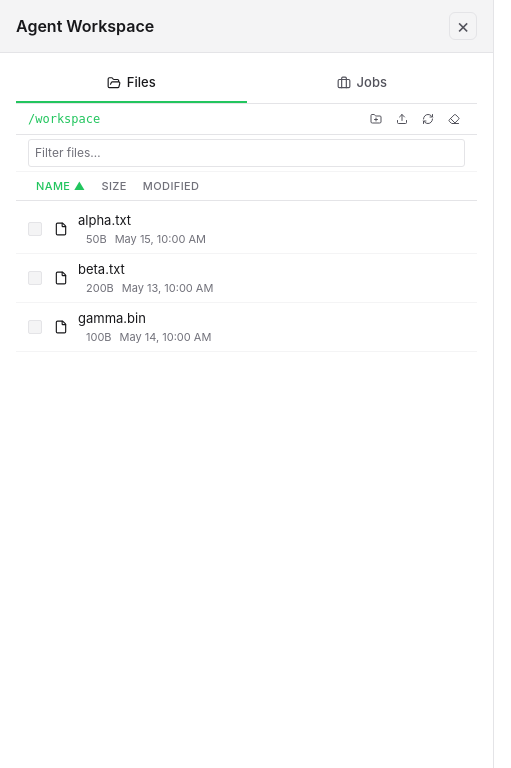
Test case: FileSystemDrawer Stage D: selection persistence › bulk delete includes filtered-out selected entries
Check: the text "alpha.txt" is shown, box x1=78 y1=212 x2=131 y2=228
Click the checkbox named "Select alpha.txt".
click(35, 229)  # box x1=28 y1=222 x2=42 y2=236
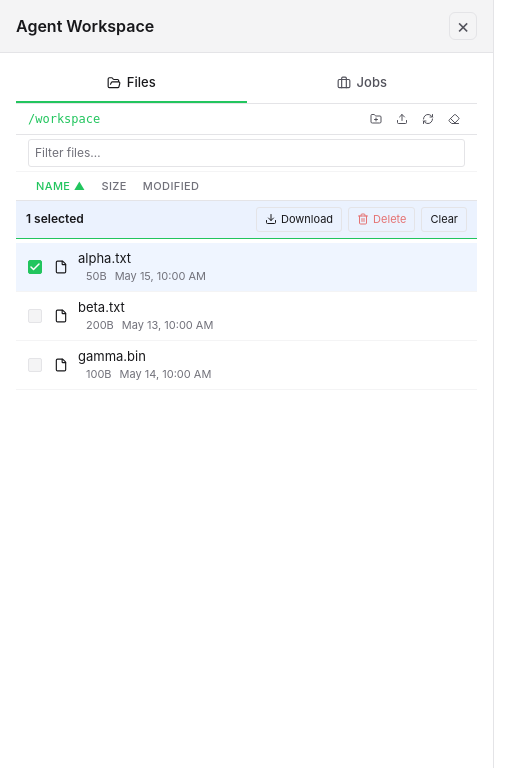
Click the checkbox named "Select beta.txt".
click(35, 316)  # box x1=28 y1=308 x2=42 y2=322
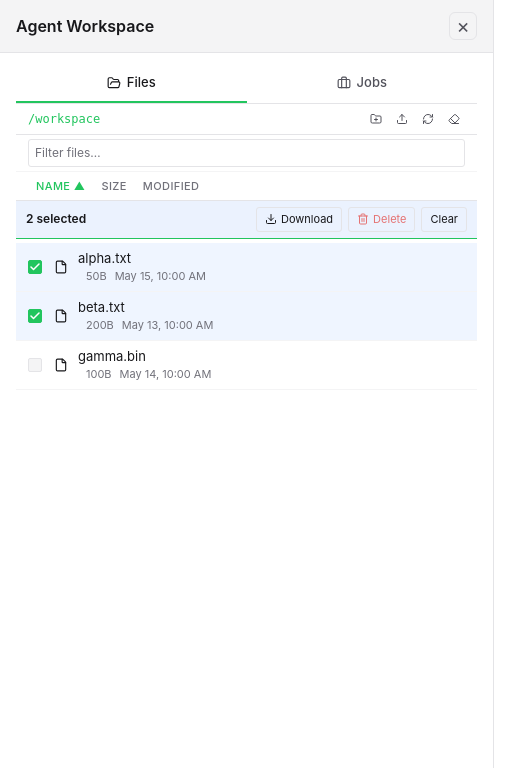
// Filter so only alpha visible
Type "alpha" into the field with placeholder "Filter files…".
click(246, 152); type("alpha")  # box x1=28 y1=138 x2=465 y2=166
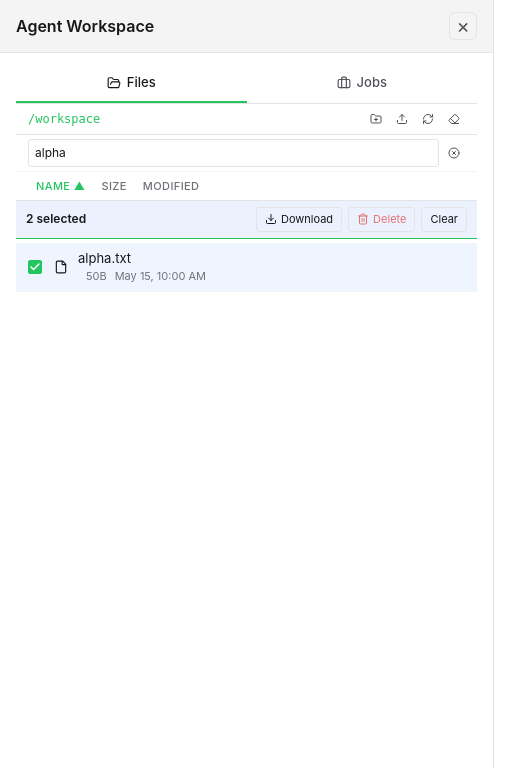
Click the button titled "Delete selected".
click(382, 219)  # box x1=348 y1=207 x2=415 y2=232
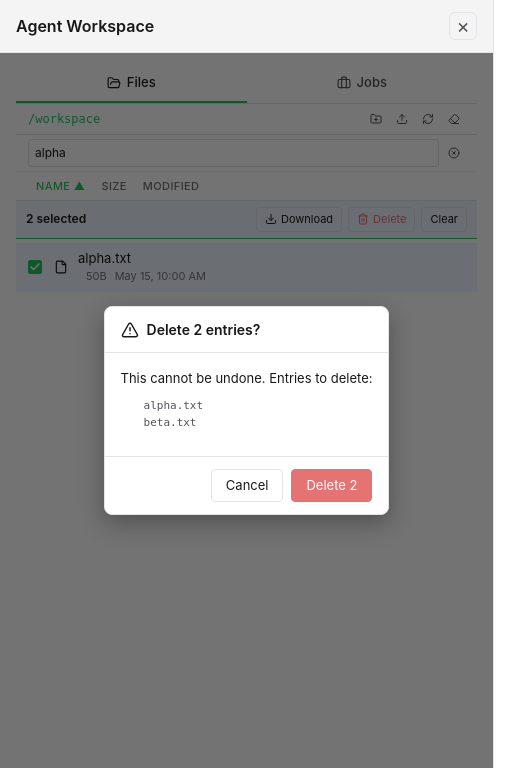
Check: the text "Delete 2 entries?" is shown, box x1=146 y1=319 x2=260 y2=340
